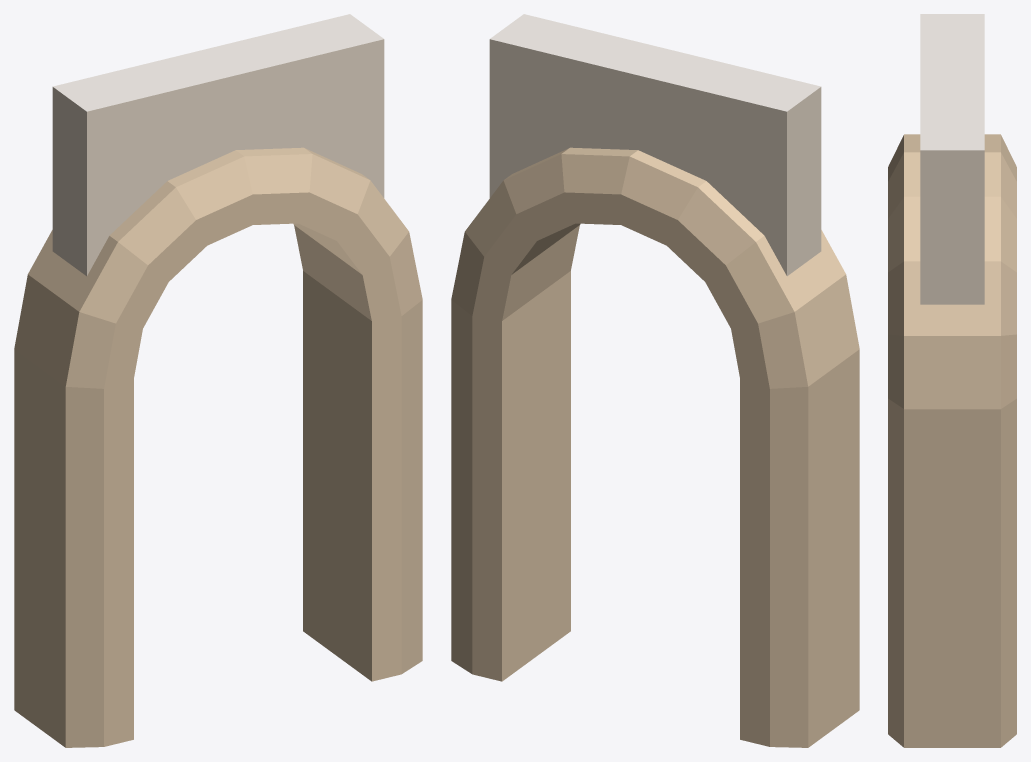
File: temple_Wall_Straight_Doorway.glb
3 views of the same model, side by side, from view 1: azimuth 30°, elevation 25°; view 2: azimuth 150°, elevation 25°; view 3: azimuth 270°, elevation 25° (orthographic). The views are drawn at different scales.
Parts seen in each view (by area): view 1: object1; view 2: object1; view 3: object1.
Part boxes in pixels (bbox=[...]): object1: bbox=[14, 14, 422, 747]; object1: bbox=[451, 14, 859, 747]; object1: bbox=[888, 14, 1016, 747].
Size of the model in its own units: 1.2 by 2 by 0.4.
